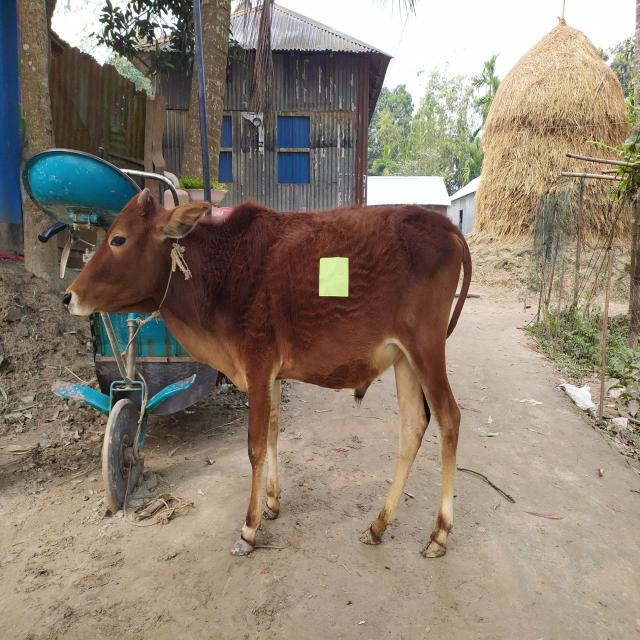badan_sapi: (242, 207, 452, 400)
sapi: (55, 182, 474, 562)
